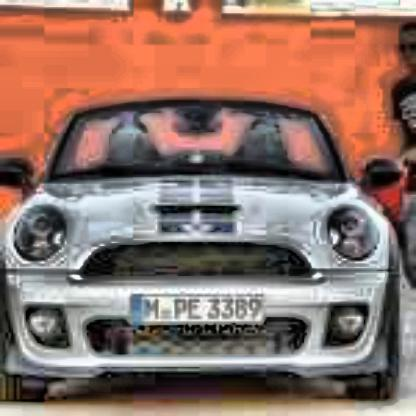MINI Cooper Roadster Convertible 2012: (4, 87, 414, 411)
